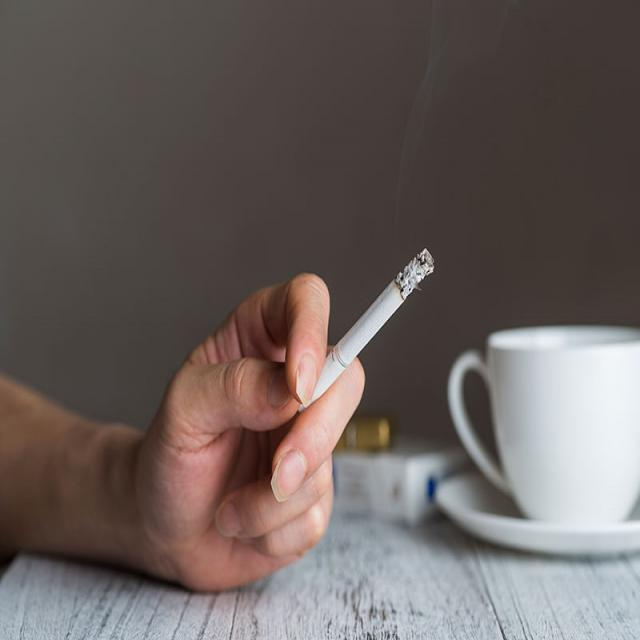smoking: (299, 246, 434, 414)
